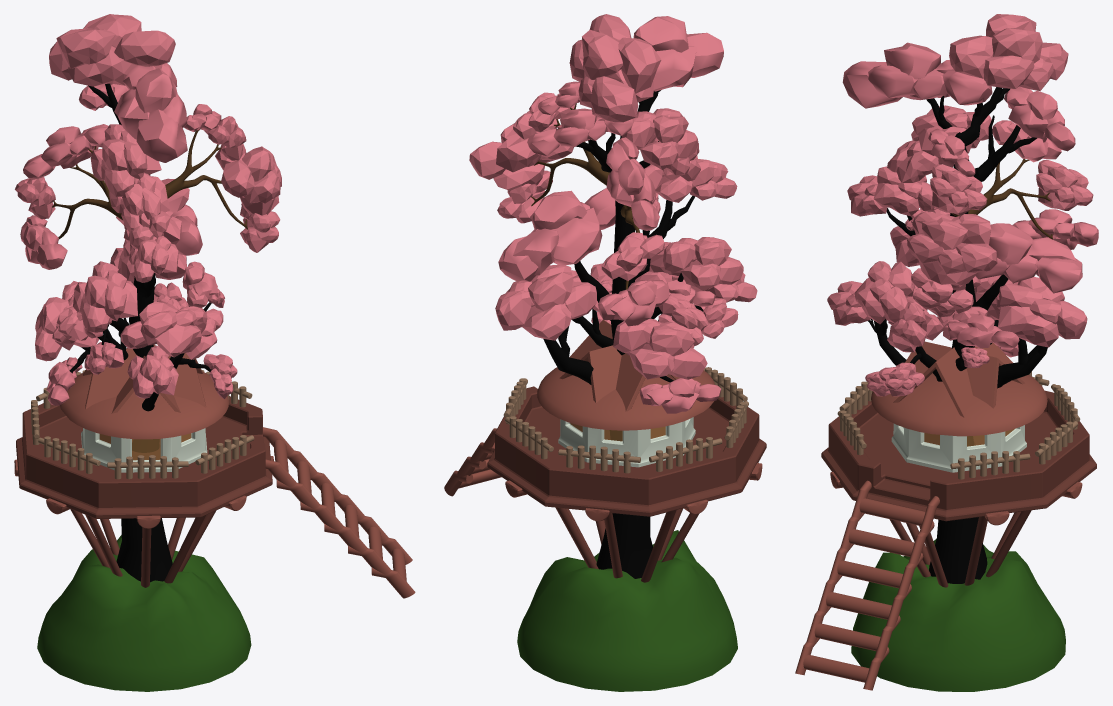
File: tree_house 1.fbx
3 renders of one model, left to right at view 1: azimuth 30°, elevation 25°; view 2: azimuth 150°, elevation 25°; view 3: azimuth 270°, elevation 25°, orthographic. The views are drawn at different scales.
Visible parts, largest first — view 1: Foliages, Grass_mound, platform, tree_roof, root, tree_ladder, tree_fence, tree_Bracket, tree_house_body; view 2: Foliages, Grass_mound, platform, root, tree_roof, tree_fence, tree_Bracket, tree_house_body, tree_ladder; view 3: Foliages, Grass_mound, platform, tree_roof, tree_ladder, root, tree_fence, tree_house_body, tree_Bracket.
Boxes of the visible parts, bbox=[...] form: Foliages: bbox=[15, 14, 281, 405]; Grass_mound: bbox=[37, 535, 251, 691]; platform: bbox=[16, 396, 272, 518]; tree_roof: bbox=[60, 344, 228, 439]; root: bbox=[52, 83, 247, 582]; tree_ladder: bbox=[263, 427, 415, 598]; tree_fence: bbox=[31, 370, 254, 479]; tree_Bracket: bbox=[14, 456, 273, 587]; tree_house_body: bbox=[81, 428, 207, 472]; Foliages: bbox=[469, 14, 757, 413]; Grass_mound: bbox=[517, 530, 737, 691]; platform: bbox=[487, 386, 766, 516]; root: bbox=[531, 90, 703, 578]; tree_roof: bbox=[537, 320, 714, 430]; tree_fence: bbox=[503, 367, 748, 473]; tree_Bracket: bbox=[491, 442, 762, 582]; tree_house_body: bbox=[558, 417, 695, 467]; tree_ladder: bbox=[444, 428, 501, 496]; Foliages: bbox=[827, 14, 1098, 396]; Grass_mound: bbox=[851, 539, 1065, 691]; platform: bbox=[821, 390, 1096, 521]; tree_roof: bbox=[871, 341, 1047, 436]; tree_ladder: bbox=[795, 480, 939, 690]; root: bbox=[868, 87, 1052, 583]; tree_fence: bbox=[837, 371, 1080, 479]; tree_house_body: bbox=[891, 423, 1026, 472]; tree_Bracket: bbox=[830, 471, 1082, 587].
Bounding box in the file's own units: 55.83 × 95.57 × 42.65.
